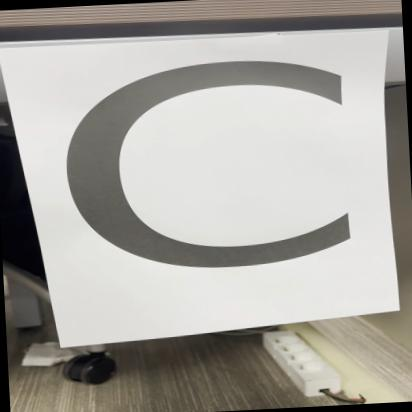seat: (21, 26, 401, 354)
